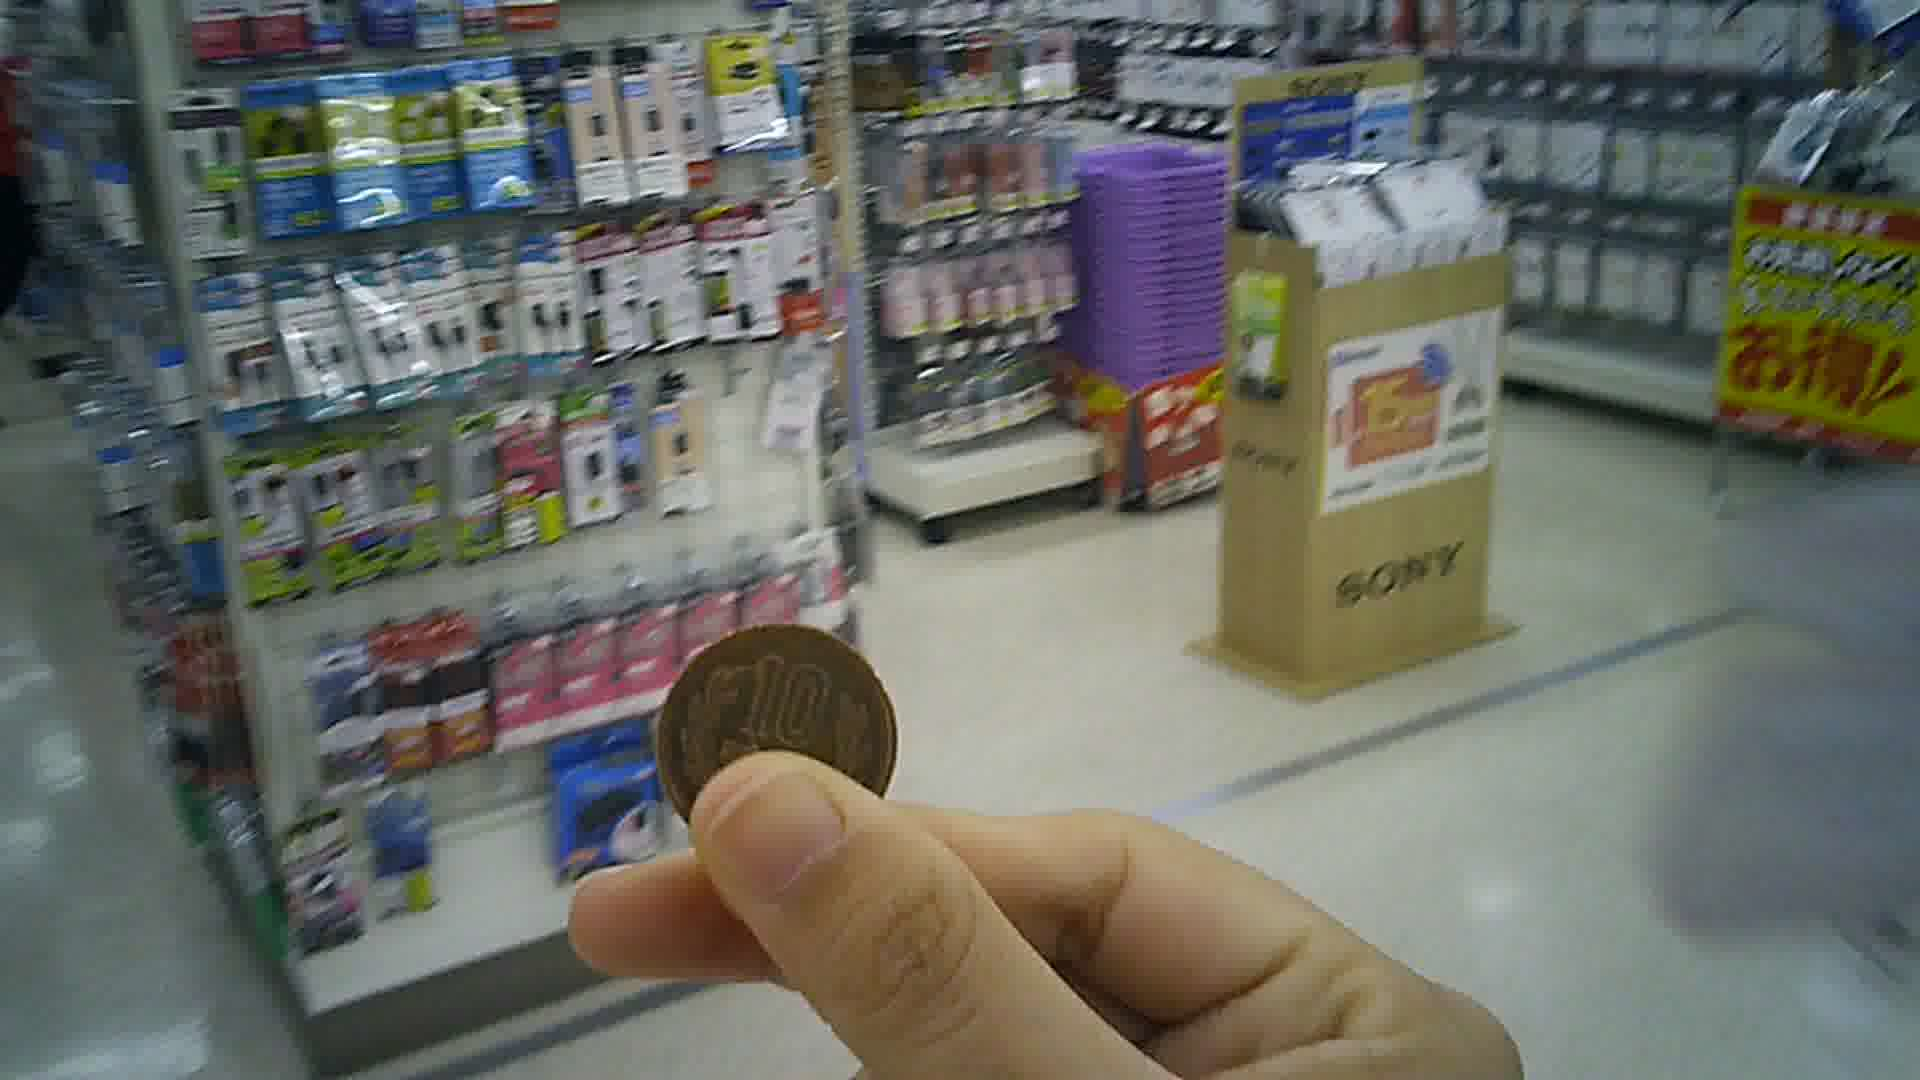10 Yen: (661, 625, 903, 843)
